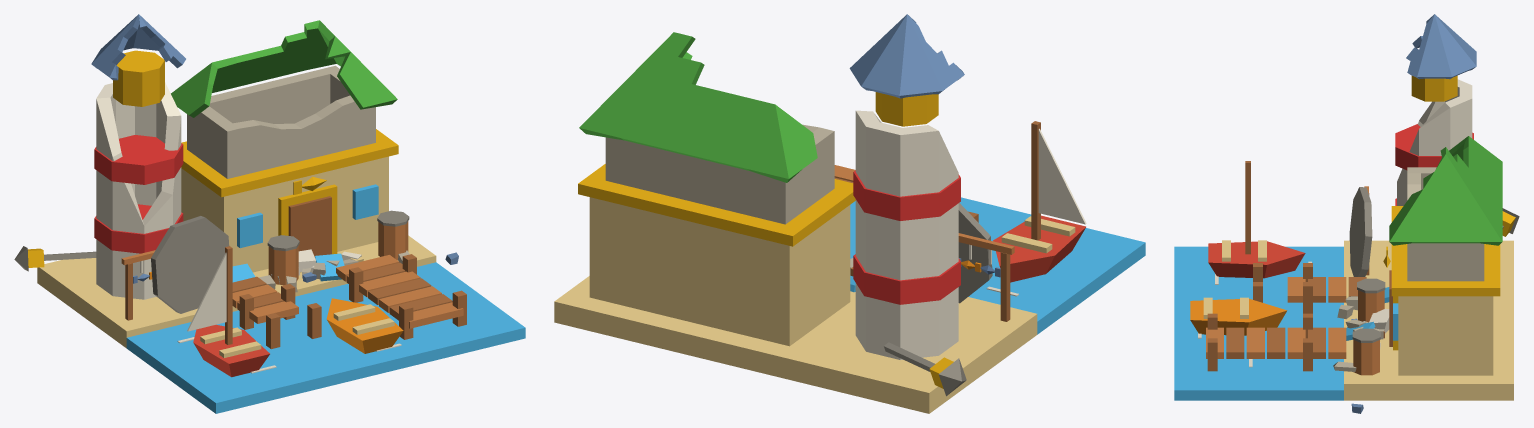
The model's file is fishery_t3_v2_dmg1.glb.
The picture shows the model from 3 angles, left to right: view 1: azimuth 30°, elevation 25°; view 2: azimuth 150°, elevation 25°; view 3: azimuth 270°, elevation 25°; orthographic projection. The views are drawn at different scales.
Visible parts, largest first — view 1: fishery_t3_v2_dmg1; view 2: fishery_t3_v2_dmg1; view 3: fishery_t3_v2_dmg1.
Part boxes in pixels (box(x1,y1,x2,y2)): fishery_t3_v2_dmg1: box(14, 14, 525, 413); fishery_t3_v2_dmg1: box(554, 14, 1145, 413); fishery_t3_v2_dmg1: box(1174, 14, 1519, 413).
Bounding box in the file's own units: 0.8812 × 0.66 × 0.7628.
1 material, 1 textured.
